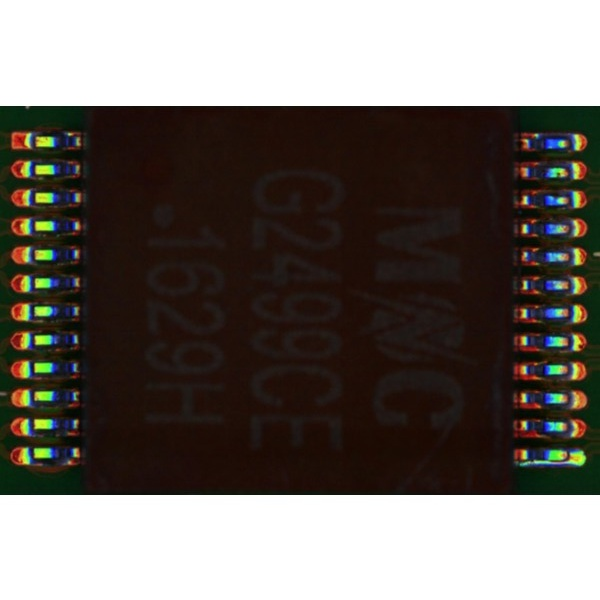Bad_podu: (563, 451, 575, 463)
Bad_qiaojiao: (520, 459, 563, 465)
